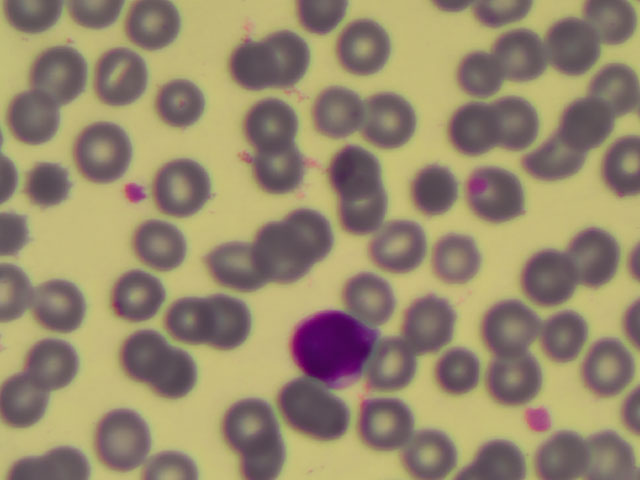Platelets: (121, 181, 151, 208), (525, 409, 557, 433)
RBC: (535, 304, 595, 369), (27, 43, 84, 104), (5, 89, 62, 150), (73, 120, 130, 181), (24, 157, 81, 218), (34, 273, 91, 334), (26, 336, 83, 397), (4, 366, 61, 427), (93, 407, 150, 468), (146, 346, 203, 407), (123, 322, 180, 383), (108, 264, 165, 325), (133, 221, 190, 282), (160, 157, 217, 218), (156, 72, 213, 133), (100, 44, 157, 105), (205, 297, 262, 358), (155, 287, 212, 348), (215, 240, 272, 301), (249, 218, 306, 279), (287, 202, 344, 263), (250, 140, 307, 201), (242, 94, 299, 155), (223, 37, 280, 98), (268, 27, 325, 88), (338, 12, 395, 73), (315, 80, 372, 141), (365, 88, 422, 149), (330, 133, 387, 194), (336, 185, 393, 246), (374, 212, 431, 273), (348, 254, 405, 315), (394, 292, 451, 353), (440, 231, 497, 292), (407, 160, 464, 221), (463, 164, 520, 225), (443, 94, 500, 155), (485, 93, 542, 154), (450, 50, 507, 111), (488, 27, 545, 88), (535, 12, 592, 73), (583, 52, 640, 113), (559, 88, 616, 149), (526, 122, 583, 183), (522, 247, 579, 308), (567, 223, 624, 284), (480, 290, 537, 351), (436, 340, 493, 401), (372, 341, 429, 402), (354, 389, 411, 450), (306, 393, 363, 454), (266, 378, 323, 439), (214, 395, 271, 456), (398, 419, 455, 480), (492, 352, 549, 413), (121, 1, 178, 61), (576, 339, 636, 395), (539, 424, 599, 480)
WBC: (294, 310, 375, 383)
